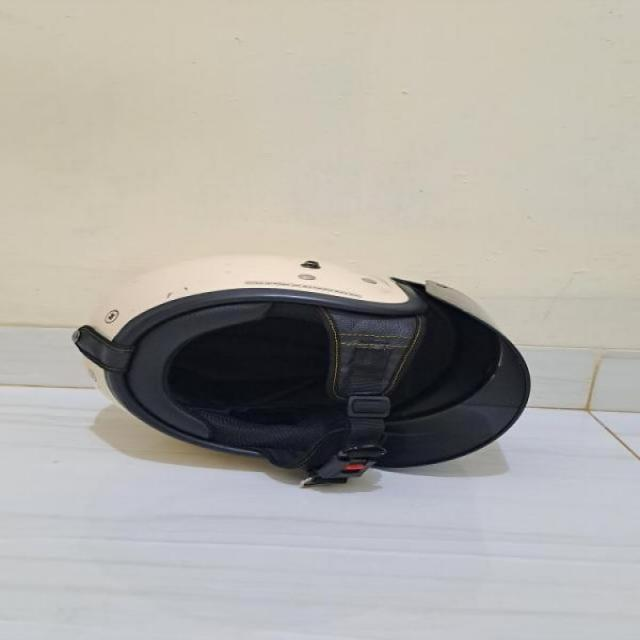Helmet: (65, 229, 539, 502)
